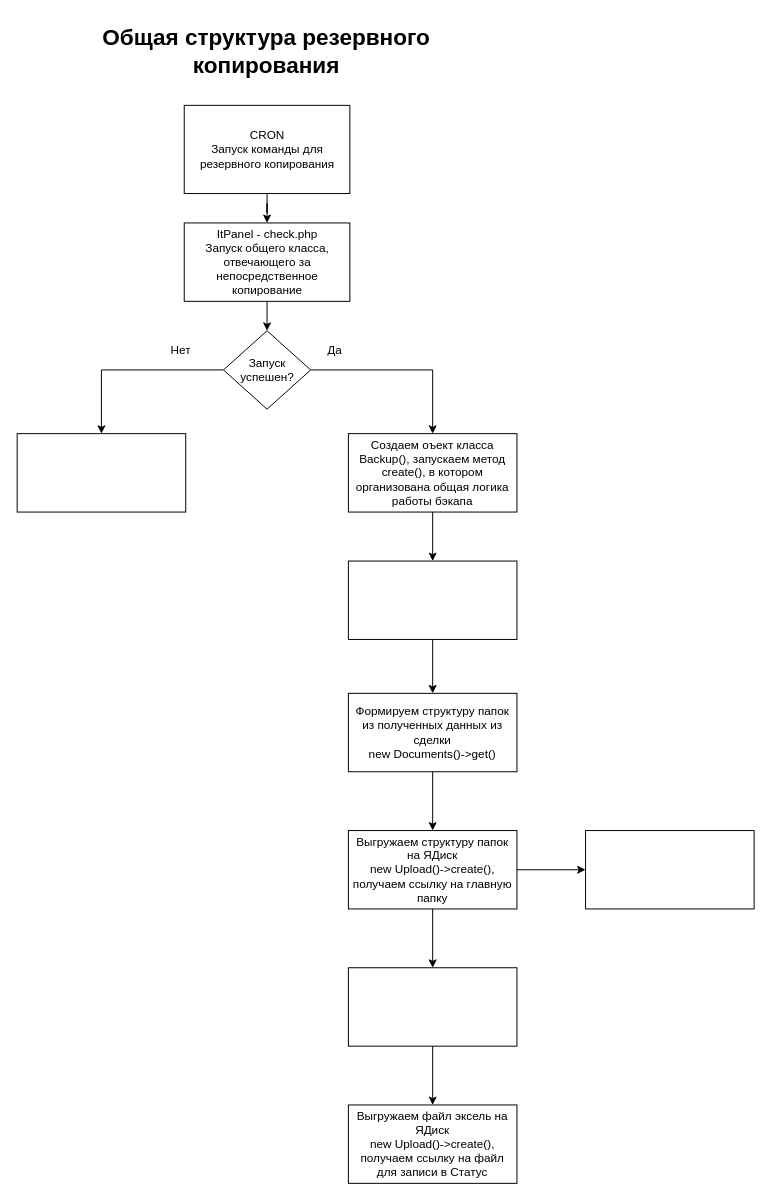
Image size: 771x1201. Some labels were removed from this diagram. Here are the shapes that lost their labels. From the top down, the centre of each, then its label:
point 101,472: Записать ошибку в лог Уведомить админа
point 432,599: Получаем нужную информацию о сделках и квартире в сделке new Deals()->get()
point 669,869: Записываем в Статус данные по загруженным файлам: 1 при успехе, 0 - при ошибке
point 432,1006: Из полученных сделок и ссылки формируем файл эксель new File()->create()
